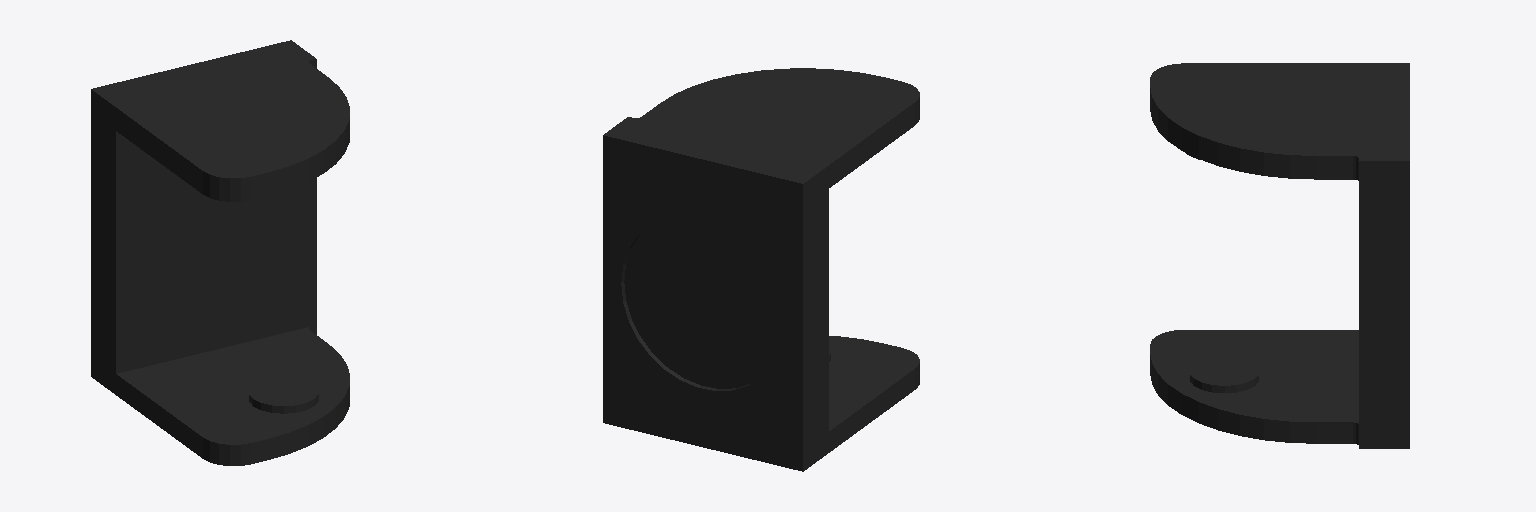
The picture shows the model from 3 angles: view 1: azimuth 30°, elevation 25°; view 2: azimuth 150°, elevation 25°; view 3: azimuth 270°, elevation 25°; orthographic projection.
Parts seen in each view (by area): view 1: link_13.0; view 2: link_13.0; view 3: link_13.0.
Boxes of the visible parts, x1=… form: link_13.0: x1=91, y1=40, x2=349, y2=465; link_13.0: x1=603, y1=68, x2=919, y2=471; link_13.0: x1=1150, y1=63, x2=1409, y2=448.
Size of the model in its own units: 0.0196 by 0.0269 by 0.022.